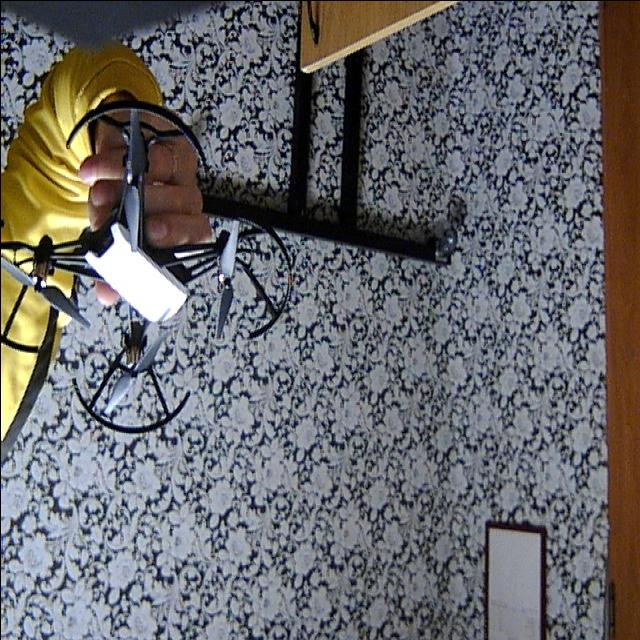drone: (0, 87, 293, 440)
